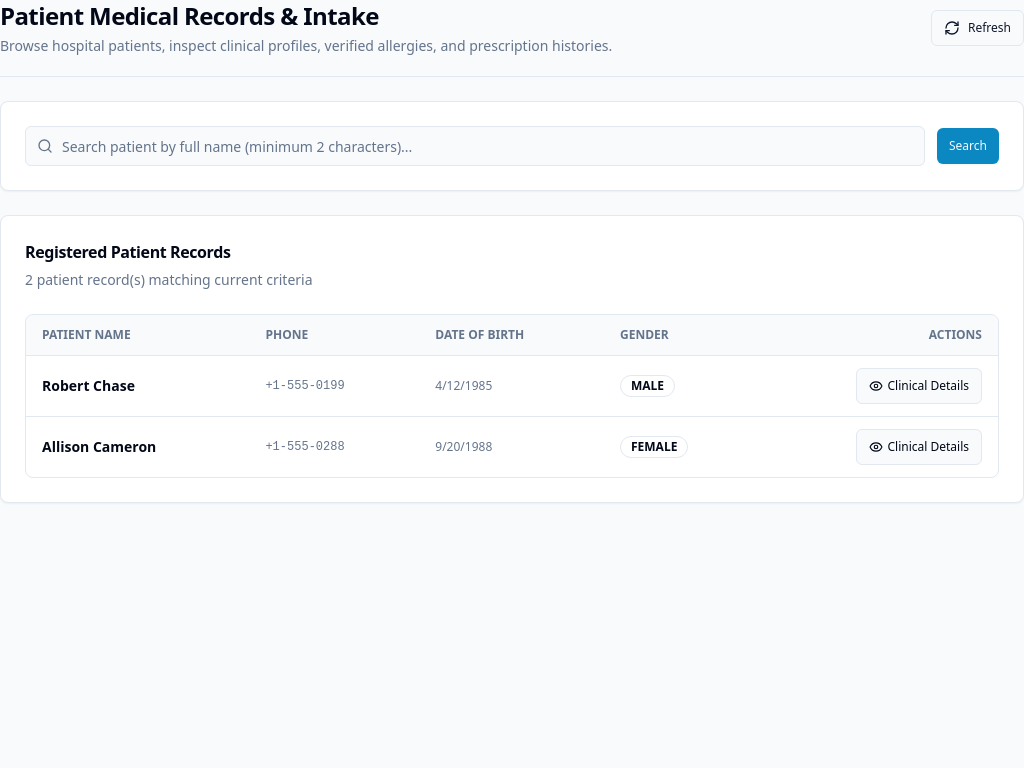
Test case: Doctor Patients Directory & Clinical Details Suites › fails closed with permission notice if doctor is unauthorized to view patient records (403)
Check: the text "Robert Chase" is shown, box [26,356,249,416]
Step 1. Click the button "Clinical Details" in the row of "Robert Chase" → x=919, y=386, box [856,368,982,404]
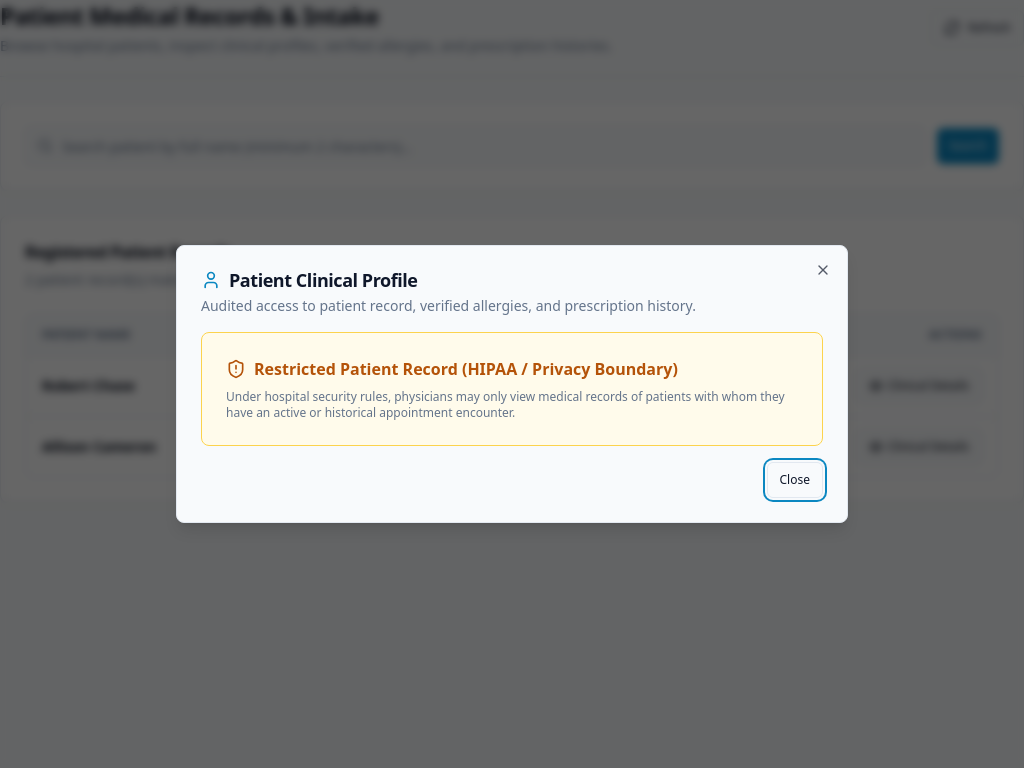
Check: the text "Restricted Patient Record (HIPAA / Privacy Boundary)" is shown, box [226,358,678,380]
